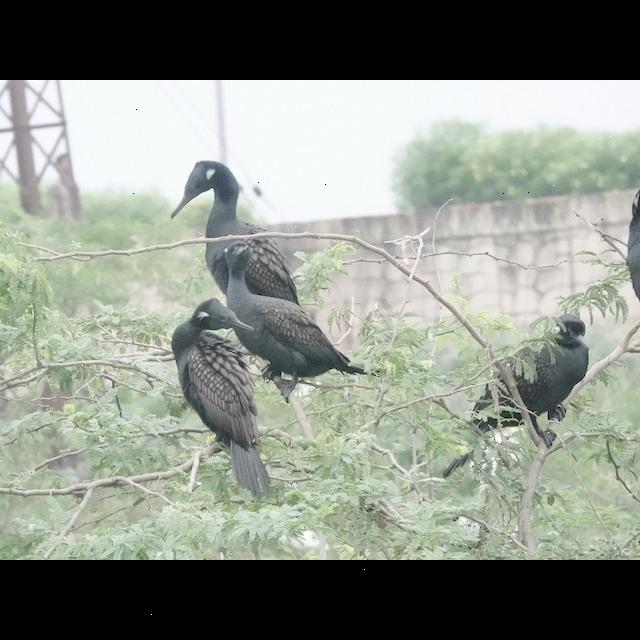cormorant: (161, 298, 279, 498), (622, 176, 640, 310)
